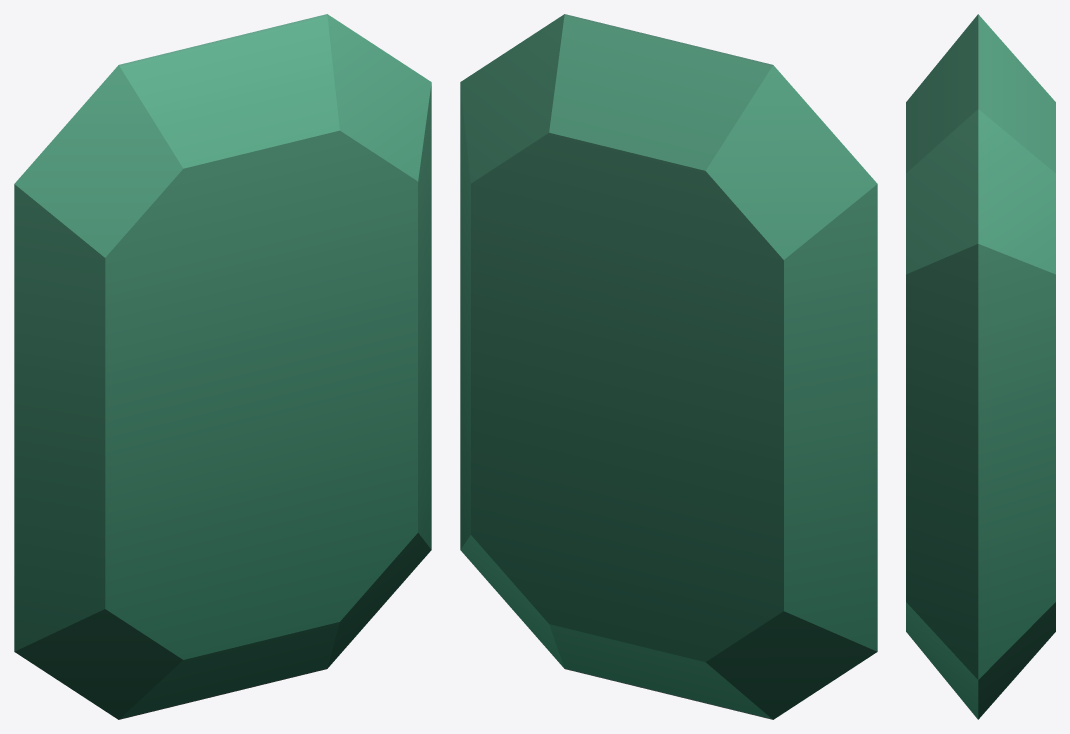
The model's file is Gem4.fbx.
The picture shows the model from 3 angles, left to right: view 1: azimuth 30°, elevation 25°; view 2: azimuth 150°, elevation 25°; view 3: azimuth 270°, elevation 25°; orthographic projection. The views are drawn at different scales.
Parts seen in each view (by area): view 1: Gem4; view 2: Gem4; view 3: Gem4.
Boxes of the visible parts, x1,y1,x2,y2 form: Gem4: (14, 14, 431, 719); Gem4: (460, 14, 877, 719); Gem4: (906, 14, 1055, 719).
Size of the model in its own units: 0.3 by 0.45 by 0.1.
